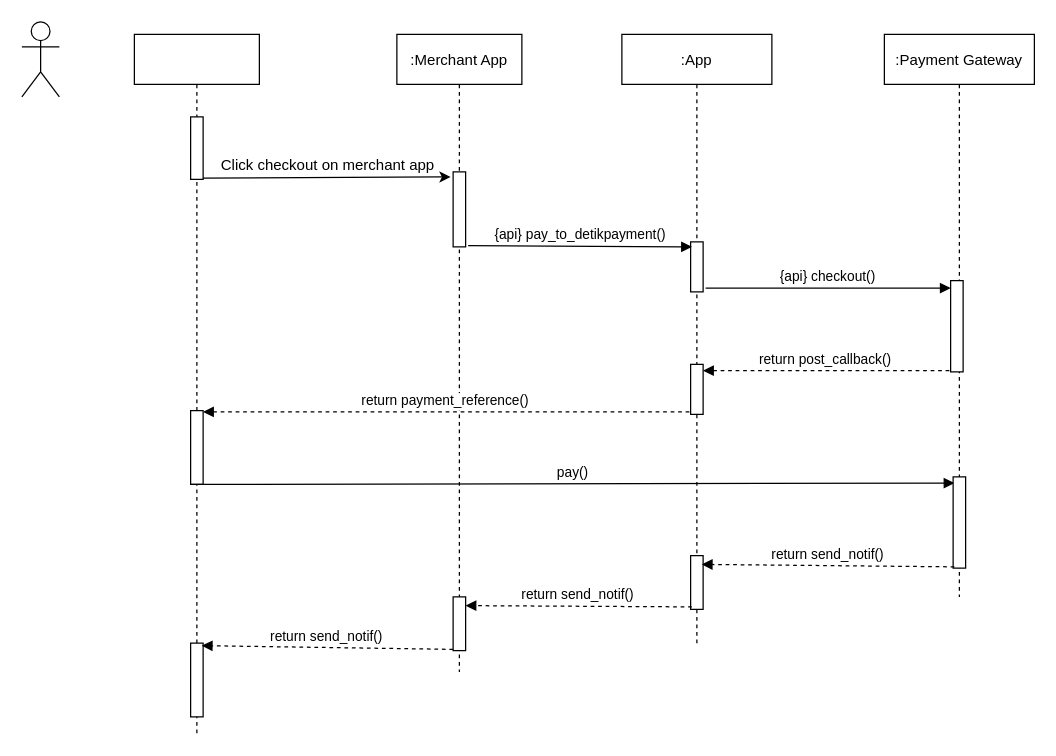
Image size: 1056x756. Some labels were removed from this diagram. The box of each missing label's shape, as (x1, y1, x2, y2) in pixels:
:User: (133, 33, 259, 734)
User: (21, 21, 59, 97)
